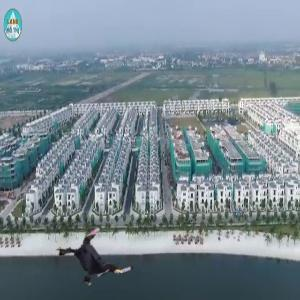drone: (60, 225, 130, 295)
